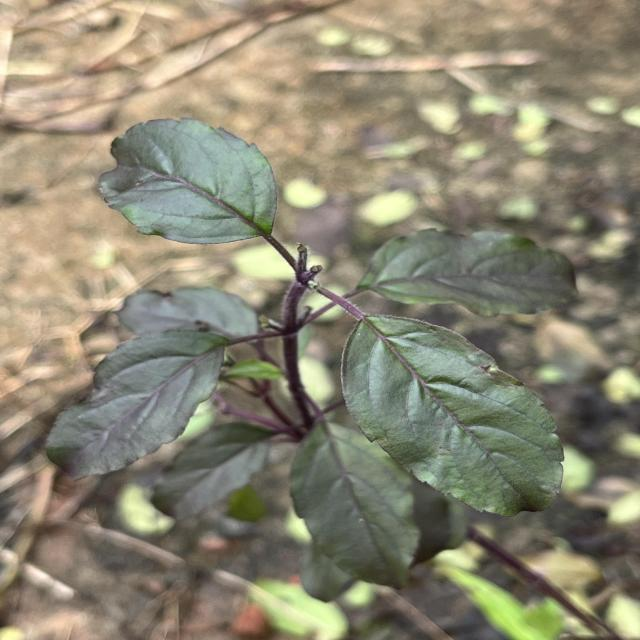Ocimum tenuiflorum: (338, 313, 567, 519), (97, 116, 280, 247)
